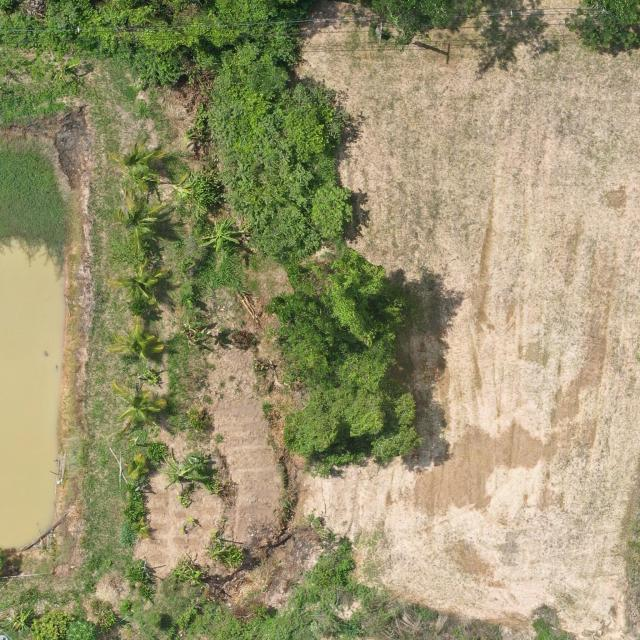banana_tree: (158, 448, 206, 490), (196, 217, 251, 250), (168, 554, 211, 592), (202, 537, 243, 567), (2, 608, 34, 634)
tree: (261, 244, 406, 388), (277, 350, 421, 471), (563, 0, 640, 53), (110, 195, 172, 257), (107, 135, 167, 195), (106, 258, 169, 306), (112, 378, 172, 426), (106, 316, 166, 361), (31, 611, 75, 640), (122, 453, 149, 482), (61, 619, 98, 640)
